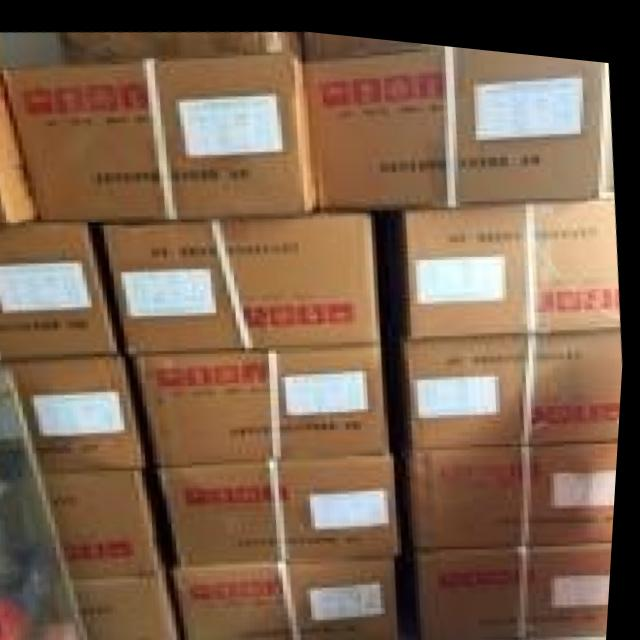box: (0, 49, 320, 219), (307, 36, 612, 199), (102, 196, 386, 349), (406, 171, 622, 329), (136, 331, 392, 464), (163, 446, 409, 562), (407, 314, 625, 441), (415, 424, 623, 541), (179, 546, 402, 640), (422, 524, 618, 630), (3, 343, 152, 473), (0, 218, 133, 359), (44, 467, 166, 574), (59, 26, 303, 62), (74, 564, 185, 640), (0, 81, 38, 224), (302, 26, 436, 50)
